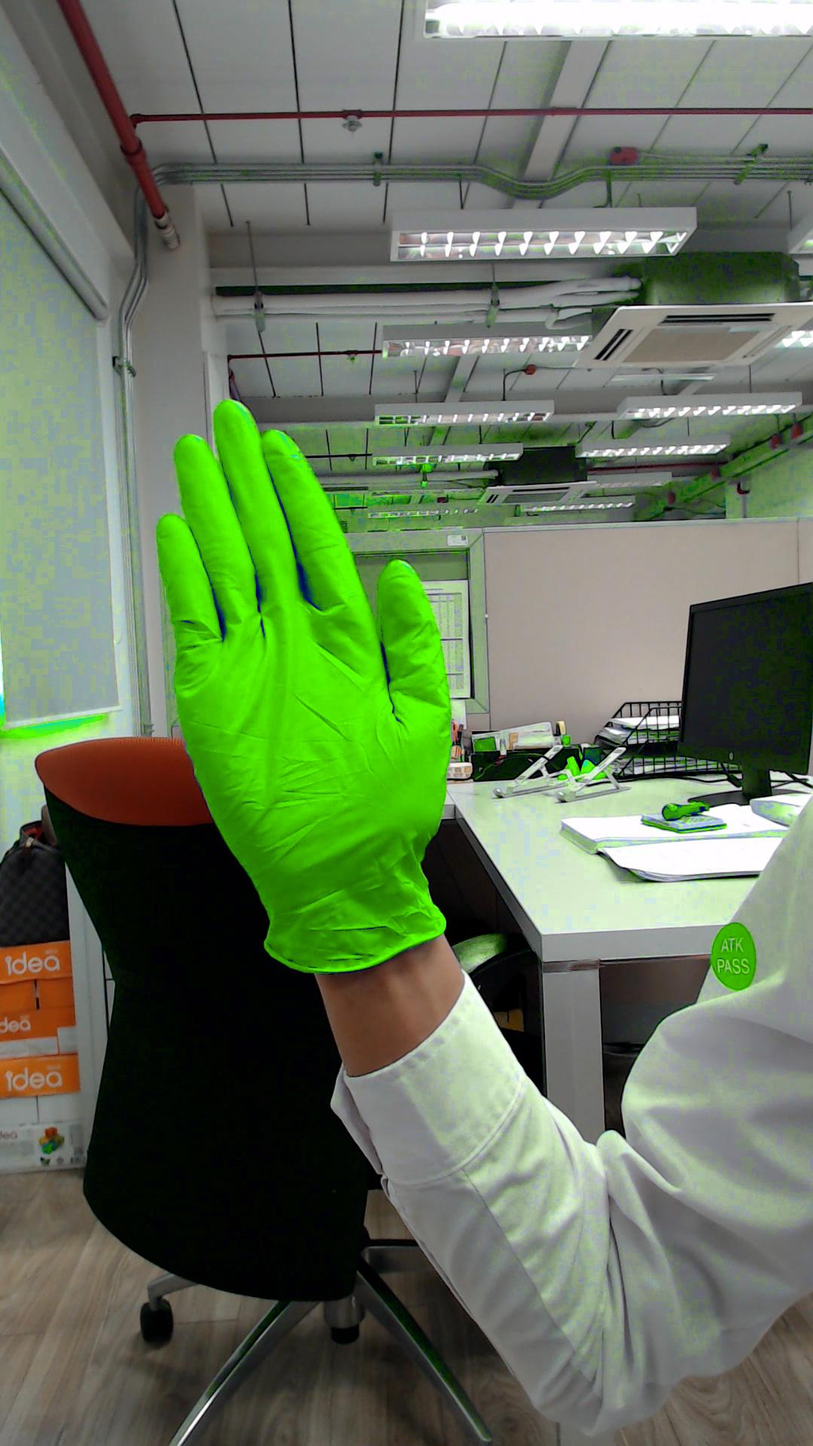gloves: (148, 384, 464, 844)
